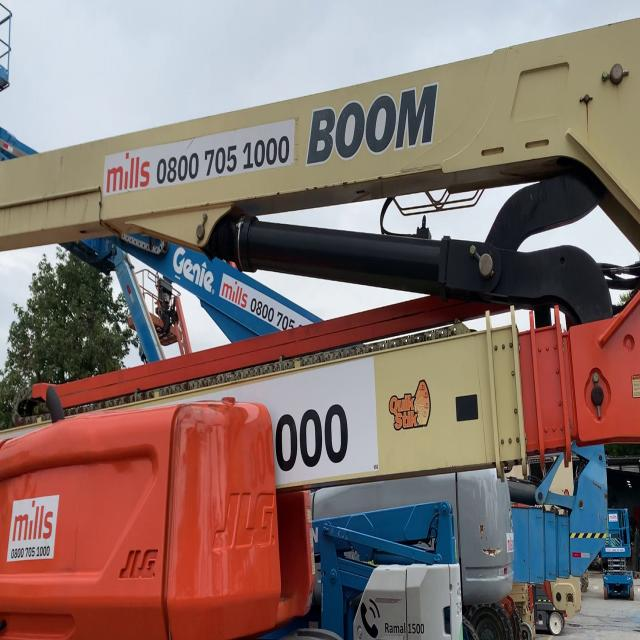Adesivo Longo: (102, 117, 296, 199)
Adesivos: (5, 492, 60, 564)
